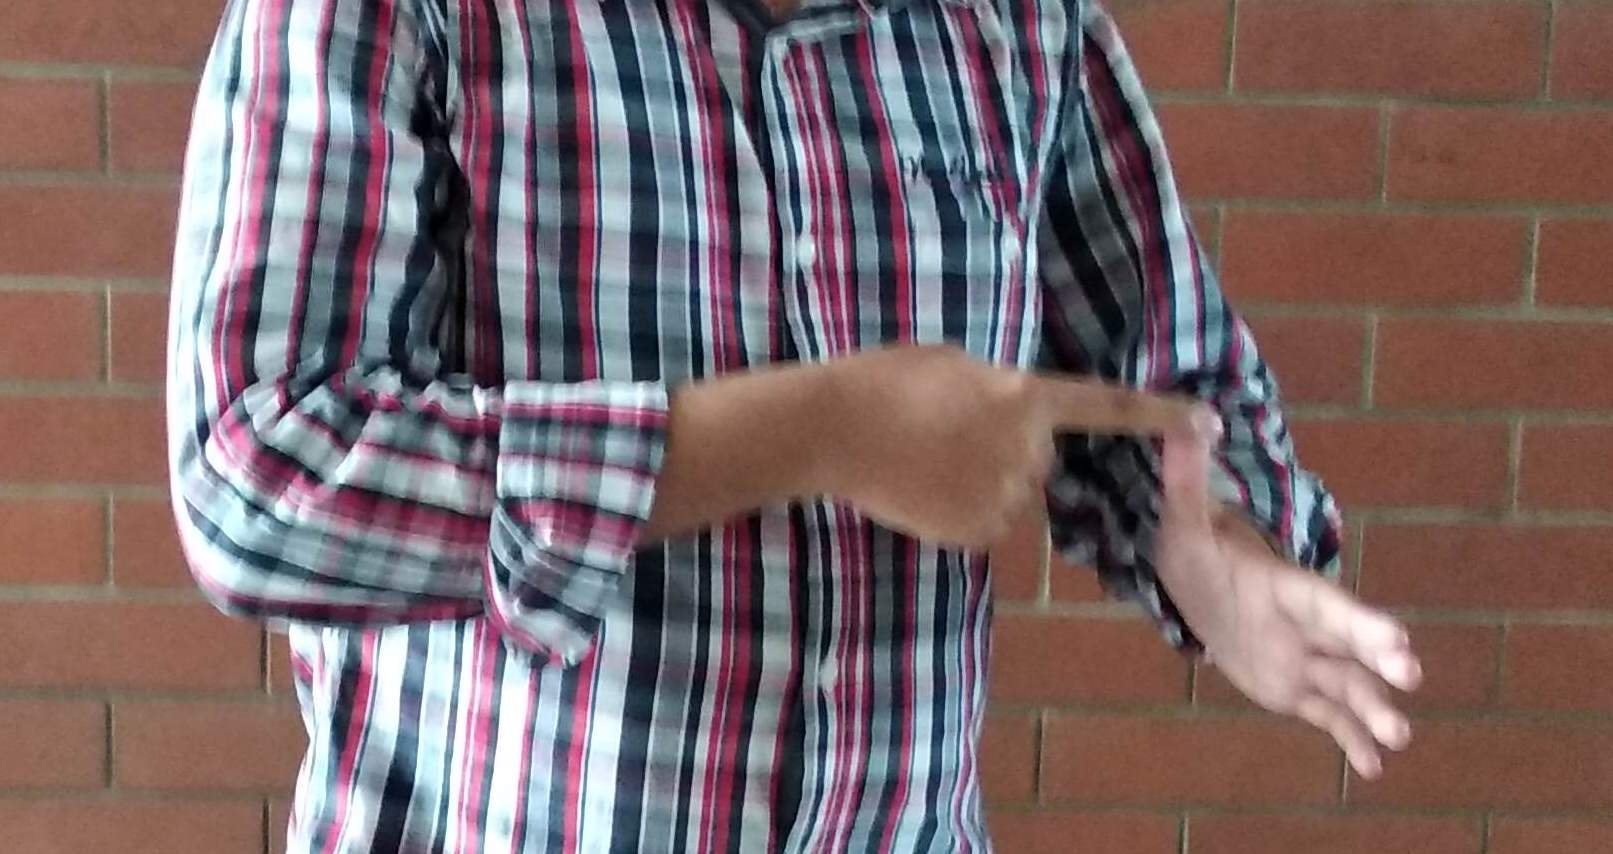a: (867, 332, 1455, 788)
